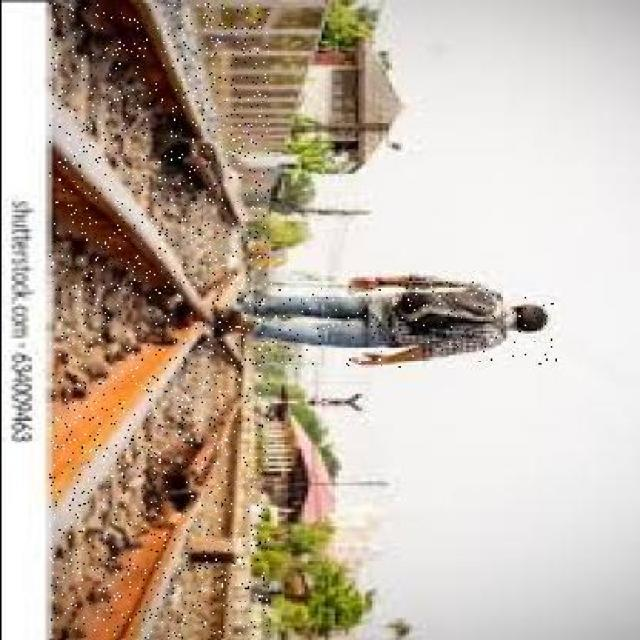danger: (219, 282, 558, 369)
rail: (48, 3, 267, 638)
